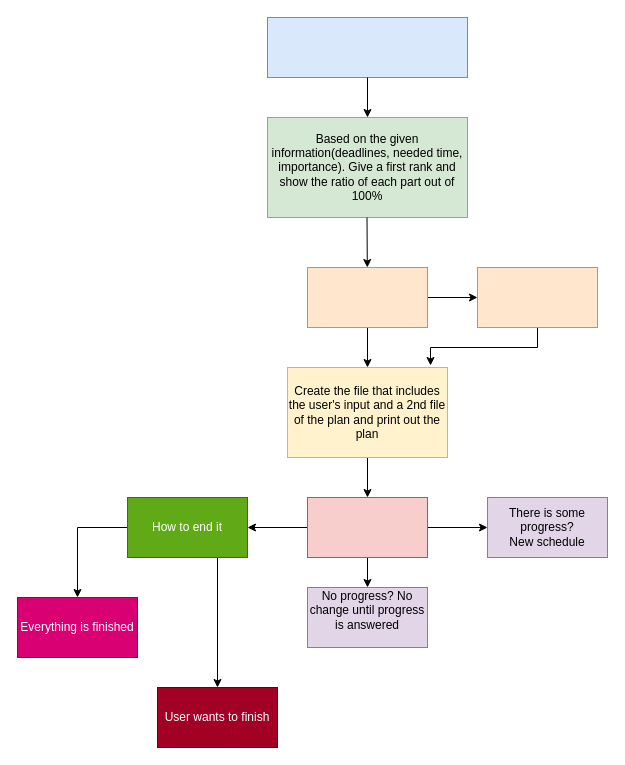
Image size: 625x765. Some labels were removed from this diagram. The shapes that lost their labels are listed below. From the top down, each one's centre as x and y in pixels, then its label:
point (367, 47): Get the input from the user
point (367, 297): Ask the user if the ratio of each part needs to be changed
point (537, 297): Needs change? Ask the change
point (367, 527): Asks if there is any progress, if new schedule is needed
